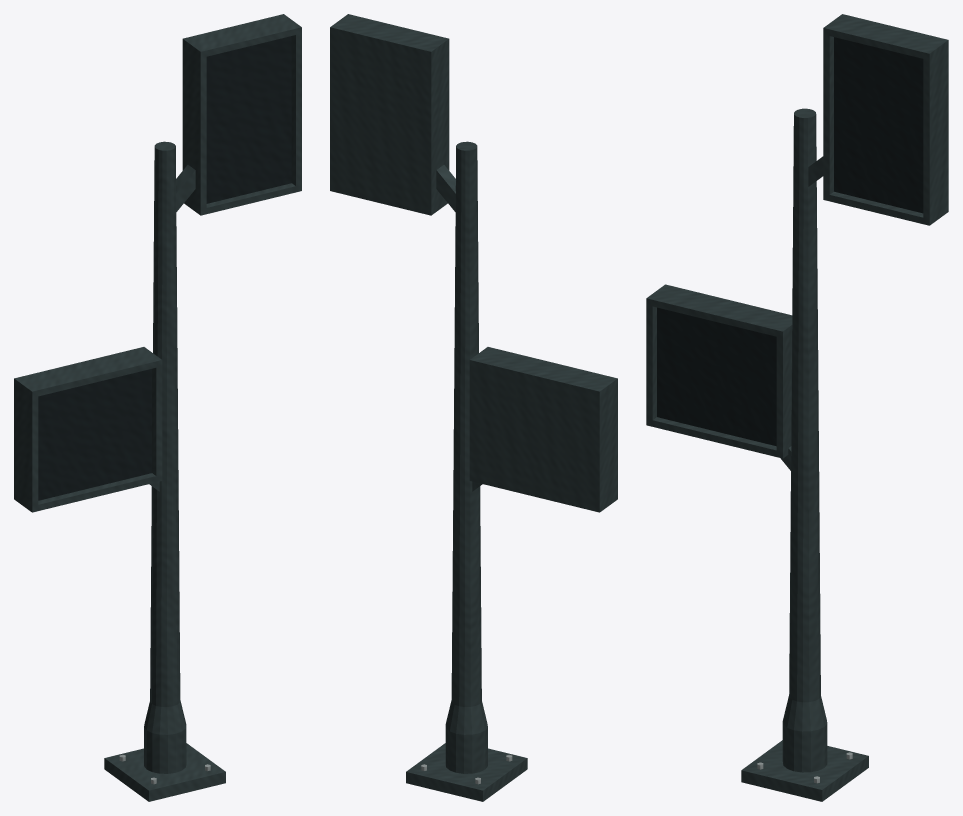
3 renders of one model, left to right at view 1: azimuth 30°, elevation 25°; view 2: azimuth 150°, elevation 25°; view 3: azimuth 330°, elevation 25°, orthographic. The views are drawn at different scales.
Visible parts, largest first — view 1: B021-06_display_dark, B021-06_housing_iron, B021-06_mast_iron, B021-06_base_iron, B021-06_frame_iron; view 2: B021-06_housing_iron, B021-06_mast_iron, B021-06_base_iron, B021-06_frame_iron; view 3: B021-06_display_dark, B021-06_mast_iron, B021-06_housing_iron, B021-06_base_iron.
Boxes of the visible parts, x1=… form: B021-06_display_dark: x1=38, y1=36, x2=291, y2=500; B021-06_housing_iron: x1=14, y1=14, x2=301, y2=512; B021-06_mast_iron: x1=144, y1=141, x2=186, y2=773; B021-06_base_iron: x1=104, y1=743, x2=225, y2=801; B021-06_frame_iron: x1=149, y1=165, x2=195, y2=491; B021-06_housing_iron: x1=330, y1=14, x2=617, y2=512; B021-06_mast_iron: x1=445, y1=141, x2=487, y2=773; B021-06_base_iron: x1=406, y1=743, x2=527, y2=801; B021-06_frame_iron: x1=436, y1=165, x2=482, y2=491; B021-06_display_dark: x1=657, y1=37, x2=923, y2=446; B021-06_mast_iron: x1=782, y1=108, x2=827, y2=772; B021-06_housing_iron: x1=646, y1=14, x2=948, y2=458; B021-06_base_iron: x1=741, y1=740, x2=868, y2=801.
Bounding box in the file's own units: 1.12 × 2.88 × 0.32.
Materials: 3 (3 with a texture image).
